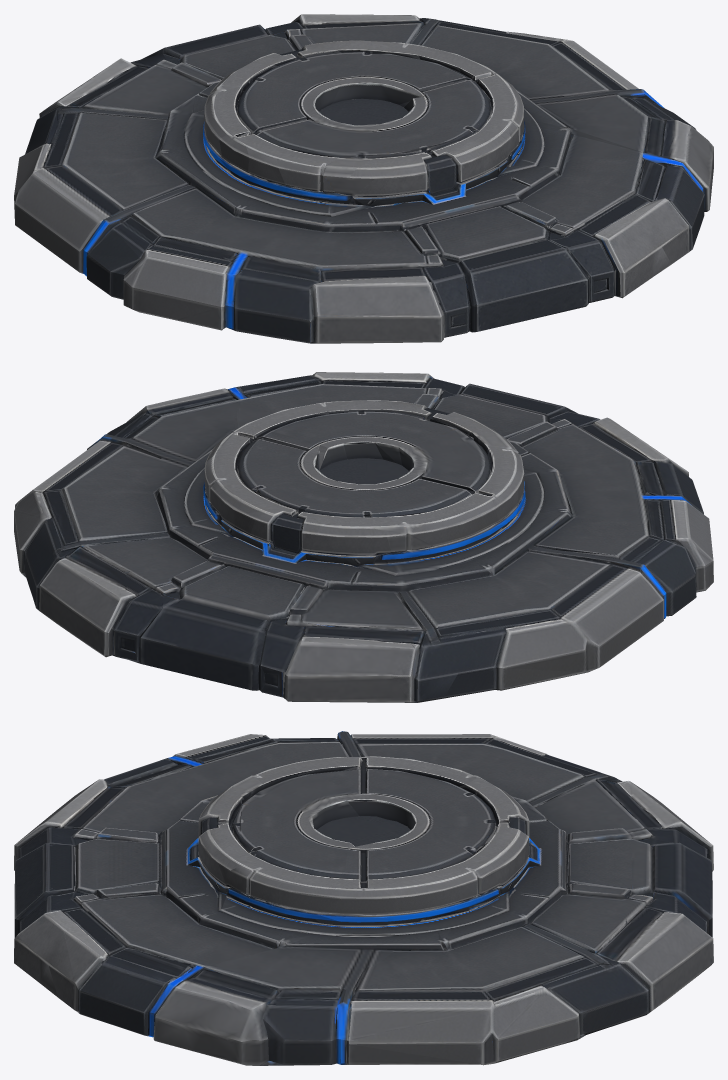
File: machine_gun_base.glb
3 views of the same model, one above another, from view 1: azimuth 30°, elevation 25°; view 2: azimuth 150°, elevation 25°; view 3: azimuth 270°, elevation 25° (orthographic). The views are drawn at different scales.
Parts seen in each view (by area): view 1: output_unwrapped; view 2: output_unwrapped; view 3: output_unwrapped.
Part boxes in pixels (box(x1,y1,x2,y2)): output_unwrapped: box(14, 14, 713, 343); output_unwrapped: box(14, 372, 713, 702); output_unwrapped: box(14, 731, 713, 1065).
Size of the model in its own units: 1.9 by 0.2927 by 1.89.
Materials: 1 (1 with a texture image).
